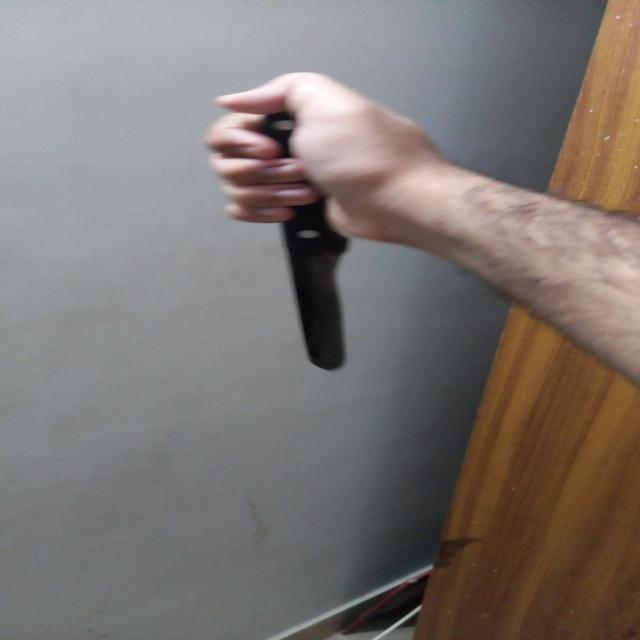Knife: (196, 77, 428, 373)
